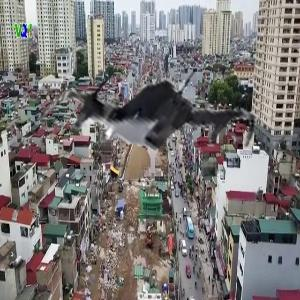drone: (53, 12, 257, 216)
